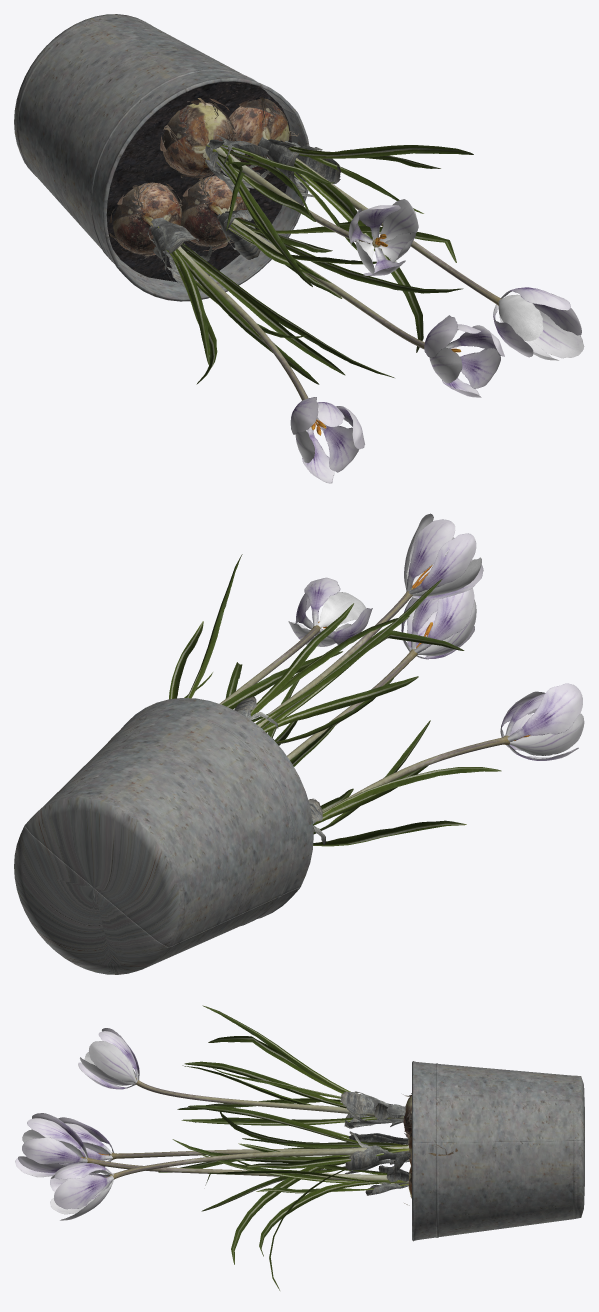
3 renders of one model, top to bottom at view 1: azimuth 30°, elevation 25°; view 2: azimuth 150°, elevation 25°; view 3: azimuth 270°, elevation 25°, orthographic. The views are drawn at different scales.
Visible parts, largest first — view 1: Bucket, FL43Leaf7, FL43Petalu1, FL43Roots1, Soil, FL43Petal8, FL43Branch1, FL43Leaf3, FL43Leaf2, FL43Leaf5, FL43Petal9, FL43Leaf4 (+1 smaller); view 2: Bucket, FL43Petalu1, FL43Leaf7, FL43Branch1, FL43Petal8, FL43Leaf2, FL43Petal9, FL43Leaf3; view 3: Bucket, FL43Leaf7, FL43Petalu1, FL43Branch1, FL43Leaf3, FL43Petal8, FL43Leaf2, FL43Leaf4, FL43Roots1.
Part boxes in pixels (x1,y1,x2,y2): Bucket: (14, 14, 309, 301); FL43Leaf7: (158, 144, 473, 384); FL43Petalu1: (290, 205, 581, 483); FL43Roots1: (113, 102, 289, 254); Soil: (106, 81, 291, 282); FL43Petal8: (295, 199, 584, 462); FL43Branch1: (177, 142, 501, 400); FL43Leaf3: (147, 135, 340, 291); FL43Leaf2: (171, 146, 440, 384); FL43Leaf5: (113, 98, 279, 257); FL43Petal9: (355, 238, 543, 341); FL43Leaf4: (152, 139, 301, 259); Bucket: (14, 698, 313, 974); FL43Petalu1: (295, 519, 582, 760); FL43Leaf7: (186, 554, 501, 834); FL43Branch1: (219, 588, 509, 812); FL43Petal8: (288, 513, 584, 755); FL43Leaf2: (169, 621, 466, 846); FL43Petal9: (318, 557, 481, 627); FL43Leaf3: (234, 696, 325, 845); Bucket: (412, 1061, 584, 1241); FL43Leaf7: (158, 1005, 406, 1290); FL43Petalu1: (15, 1028, 139, 1209); FL43Branch1: (83, 1077, 408, 1184); FL43Leaf3: (339, 1091, 410, 1173); FL43Petal8: (22, 1041, 136, 1220); FL43Leaf2: (237, 1138, 409, 1193); FL43Leaf4: (365, 1103, 410, 1195); FL43Roots1: (403, 1095, 411, 1197).
Bounding box in the file's own units: 0.1163 × 0.1014 × 0.2453.
15 materials, 15 textured.
